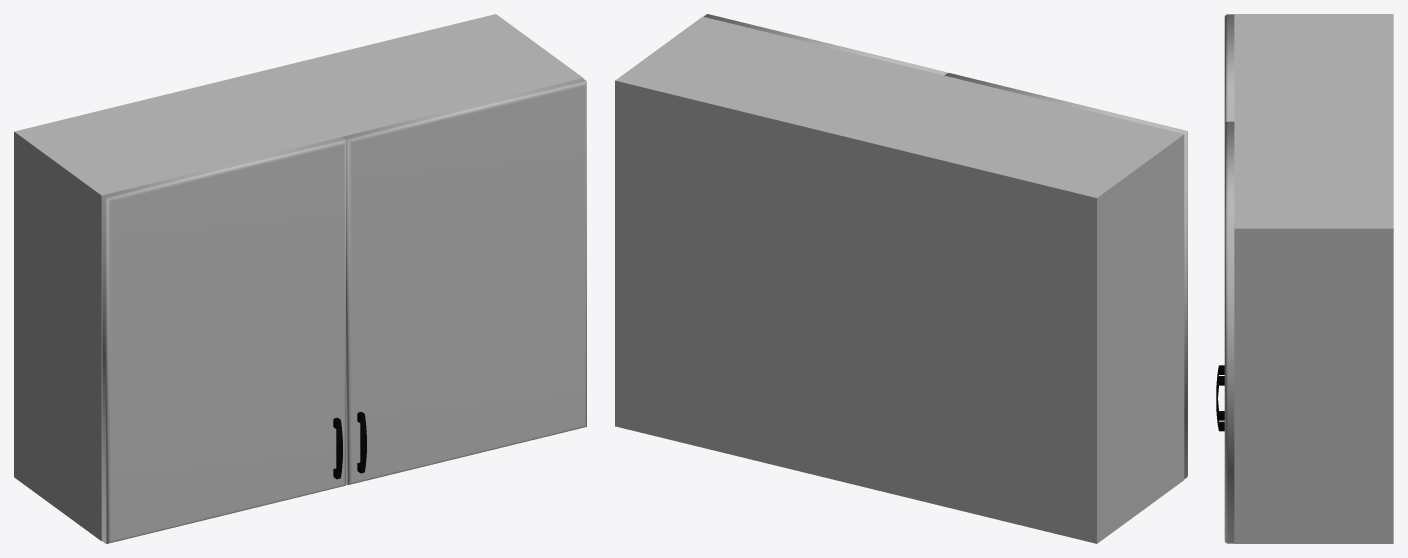
The picture shows the model from 3 angles, left to right: view 1: azimuth 30°, elevation 25°; view 2: azimuth 150°, elevation 25°; view 3: azimuth 270°, elevation 25°; orthographic projection. The views are drawn at different scales.
Parts seen in each view (by area): view 1: Box011, Box012, Box001; view 2: Box001, Box011, Box012; view 3: Box001, Box012, Box011, Obj3d66-503491-2-345.
Boxes of the visible parts, left/top/right/bottom form: Box011: left=102, top=137, right=345, bottom=543; Box012: left=343, top=78, right=586, bottom=485; Box001: left=14, top=14, right=582, bottom=541; Box001: left=615, top=16, right=1184, bottom=543; Box011: left=944, top=72, right=1187, bottom=478; Box012: left=703, top=14, right=946, bottom=75; Box001: left=1234, top=14, right=1393, bottom=543; Box012: left=1224, top=121, right=1234, bottom=543; Box011: left=1224, top=14, right=1234, bottom=123; Obj3d66-503491-2-345: left=1216, top=376, right=1224, bottom=431.
Size of the model in its own units: 1.05 by 0.72 by 0.3671.
Materials: 2 (1 with a texture image).
